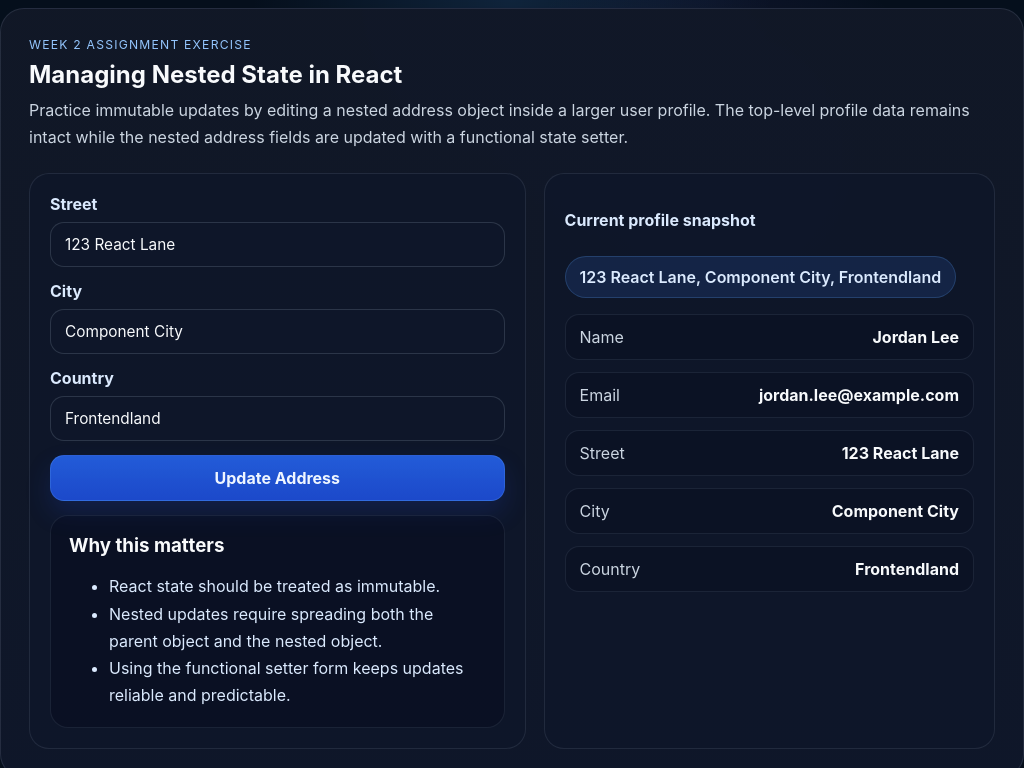
UserProfile standalone exercise › normal: clicking update replaces all nested address fields
Replace the text in the field with test id "street-input" with "456 State Street": (277, 245) [50,222,505,267]
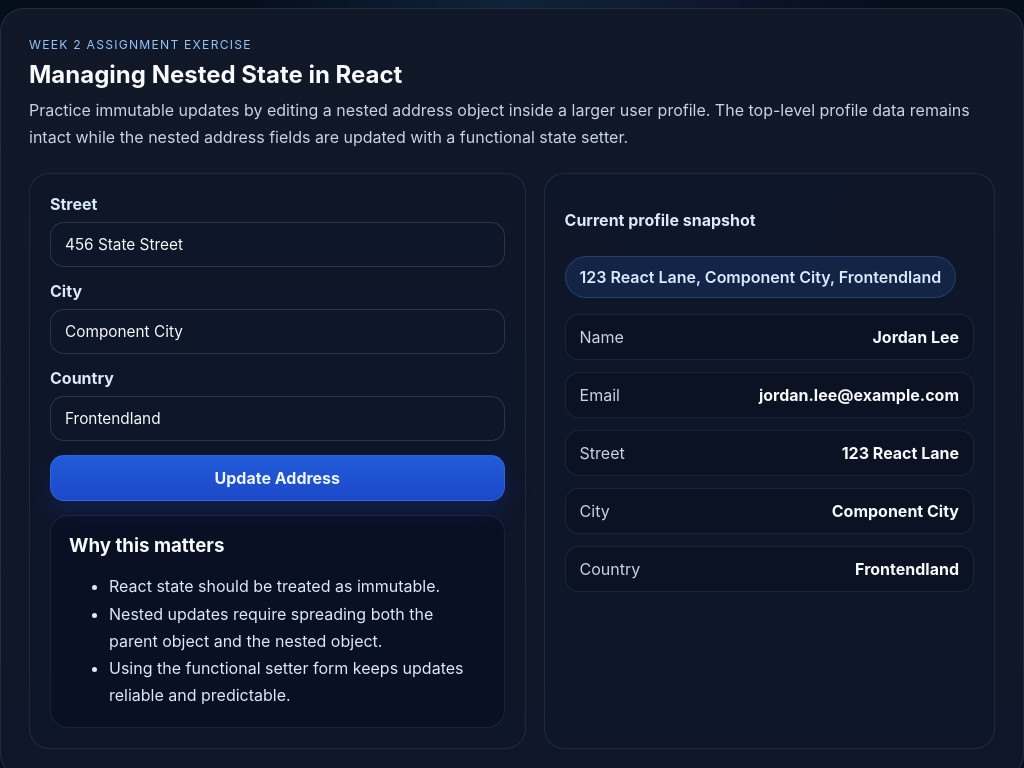
Replace the text in the field with test id "city-input" with "Hooksville": (277, 332) [50,309,505,354]
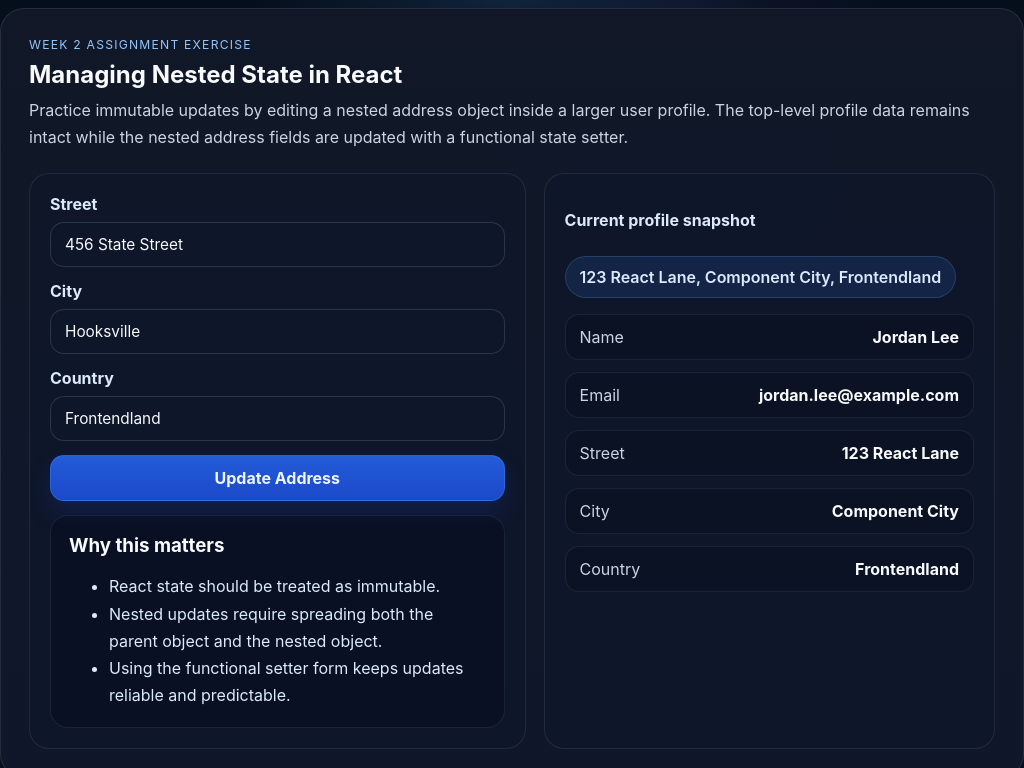
Replace the text in the field with test id "country-input" with "Reactonia": (277, 419) [50,396,505,441]
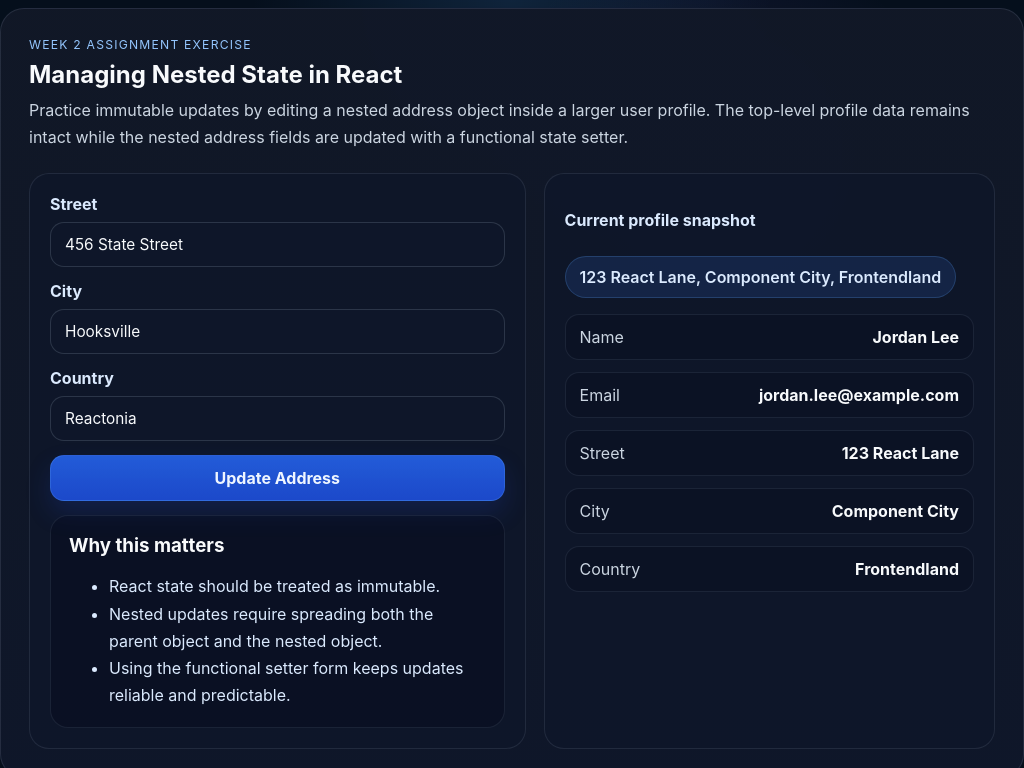
Click the button "Update Address": (277, 478) [50,455,505,501]
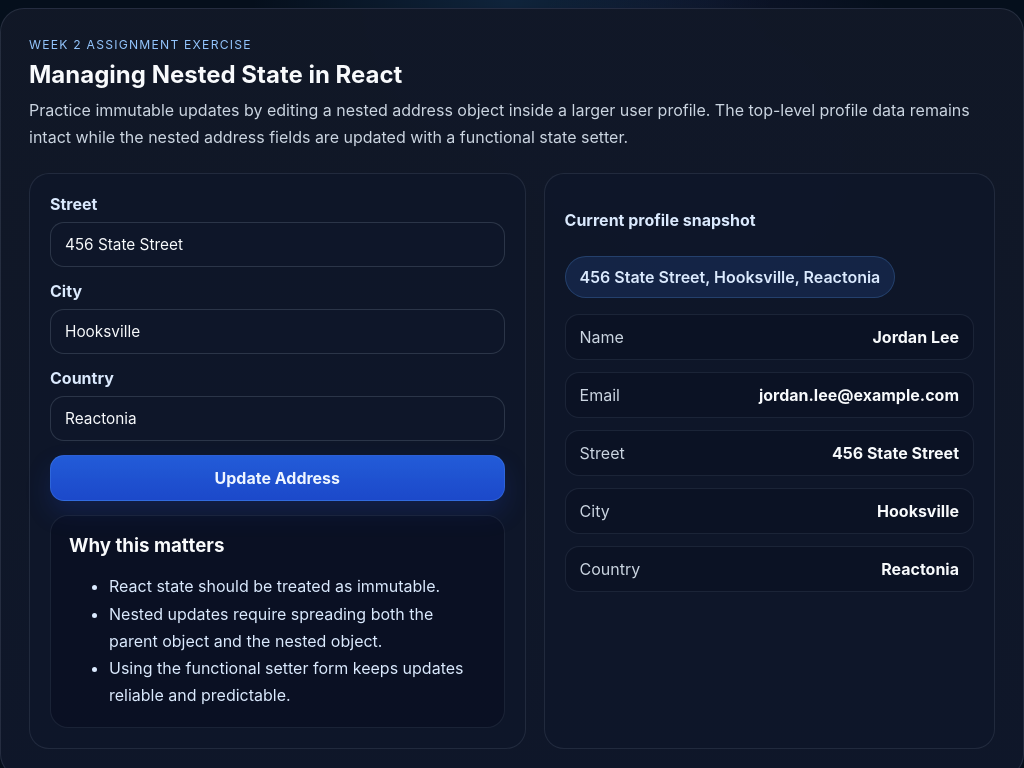
Expected: the text with test id "profile-street" reads "456 State Street", [832,443,959,463]
Expected: the text with test id "profile-city" reads "Hooksville", [877,501,959,521]
Expected: the text with test id "profile-country" reads "Reactonia", [881,559,959,579]
